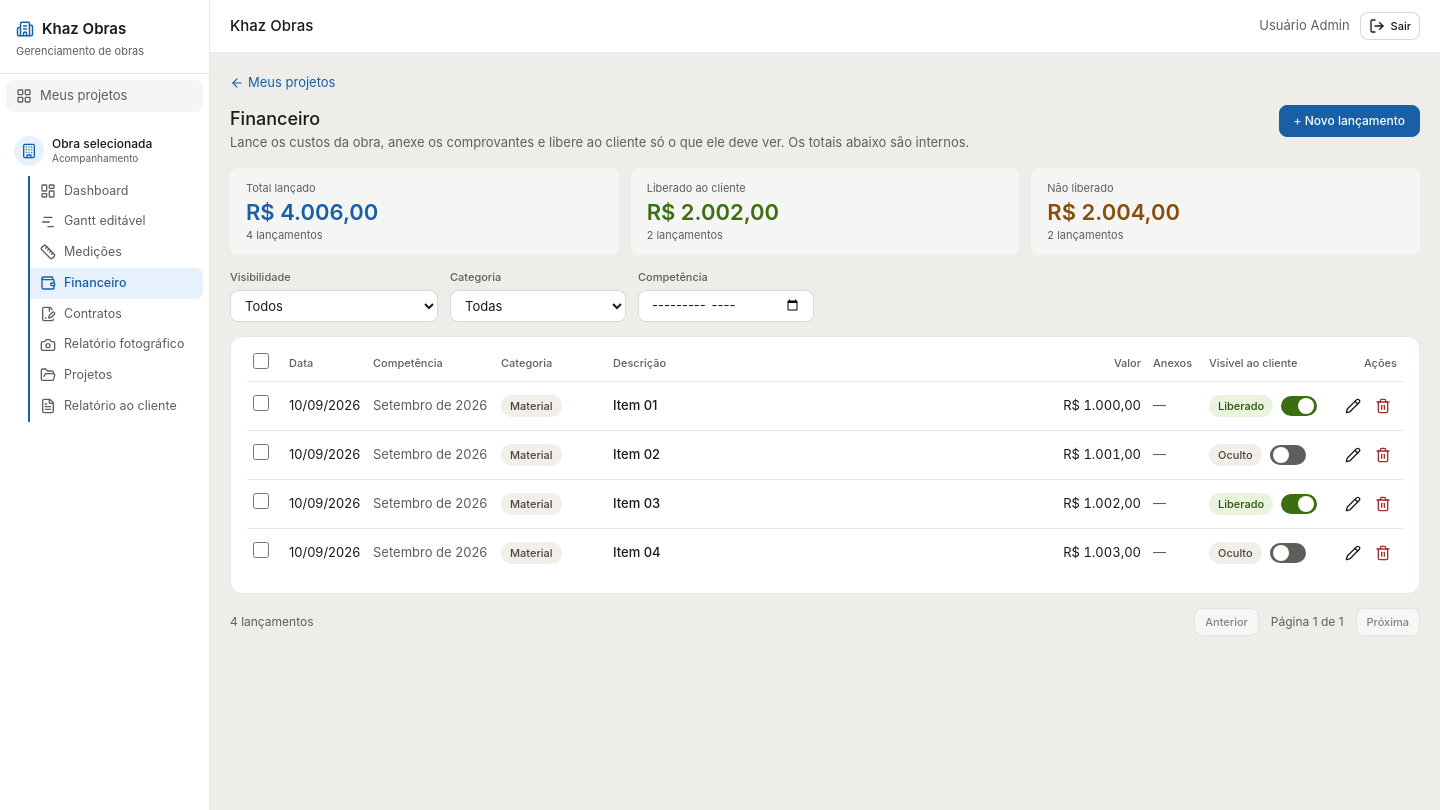
Test: Financeiro (admin) - seleção › checkbox do cabeçalho: indeterminado com seleção parcial, marca e desmarca todos da página
The width and height of the screenshot is (1440, 810).
Expected: the table is shown, [247,352,1403,577]
Expected: the checkbox named "Selecionar todos os lançamentos desta página" is not checked, [253,352,269,368]
Click the checkbox named "Selecionar lançamento: Item 01" at point(261, 403), box [253,395,269,411]
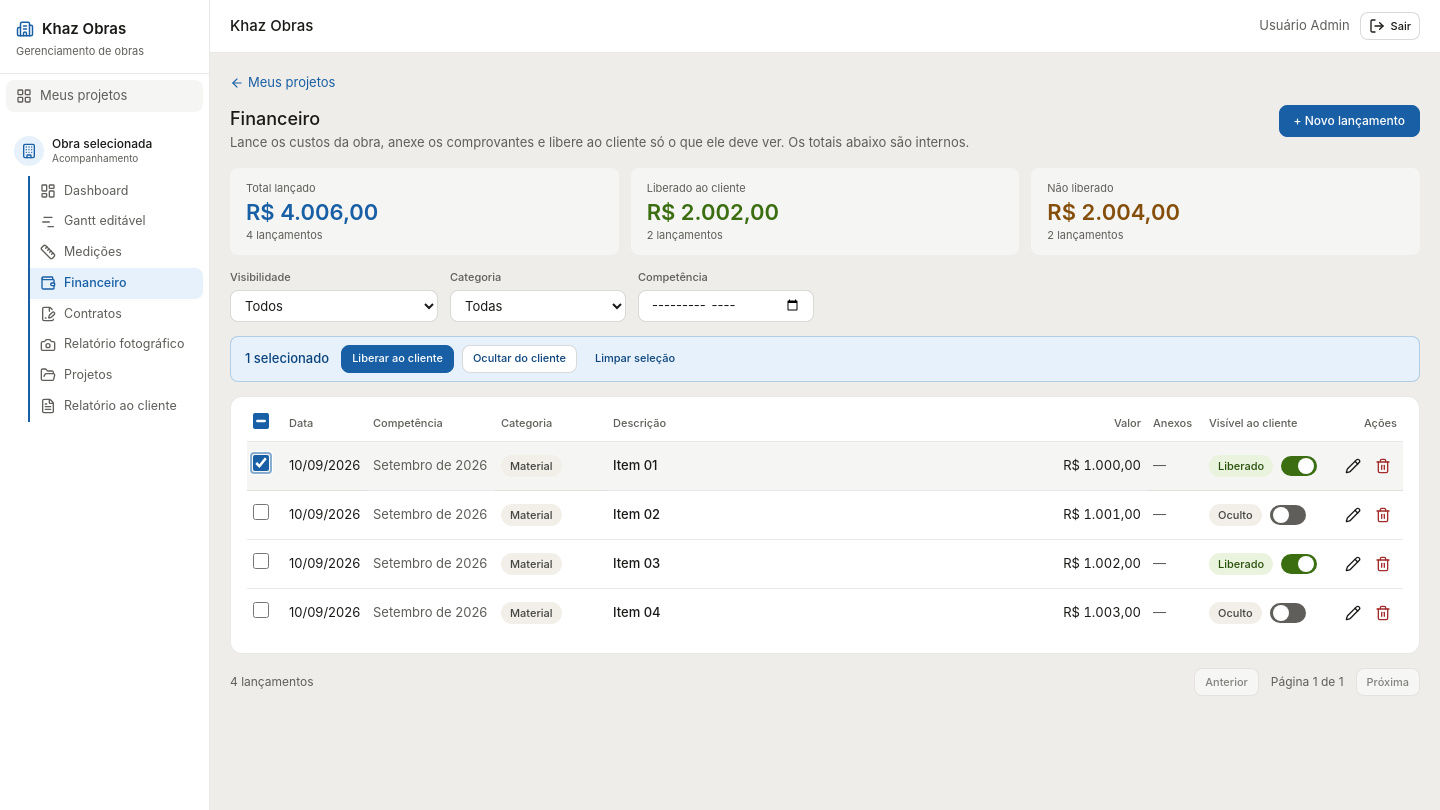
Click the checkbox named "Selecionar todos os lançamentos desta página" at point(261, 420), box [253,412,269,428]
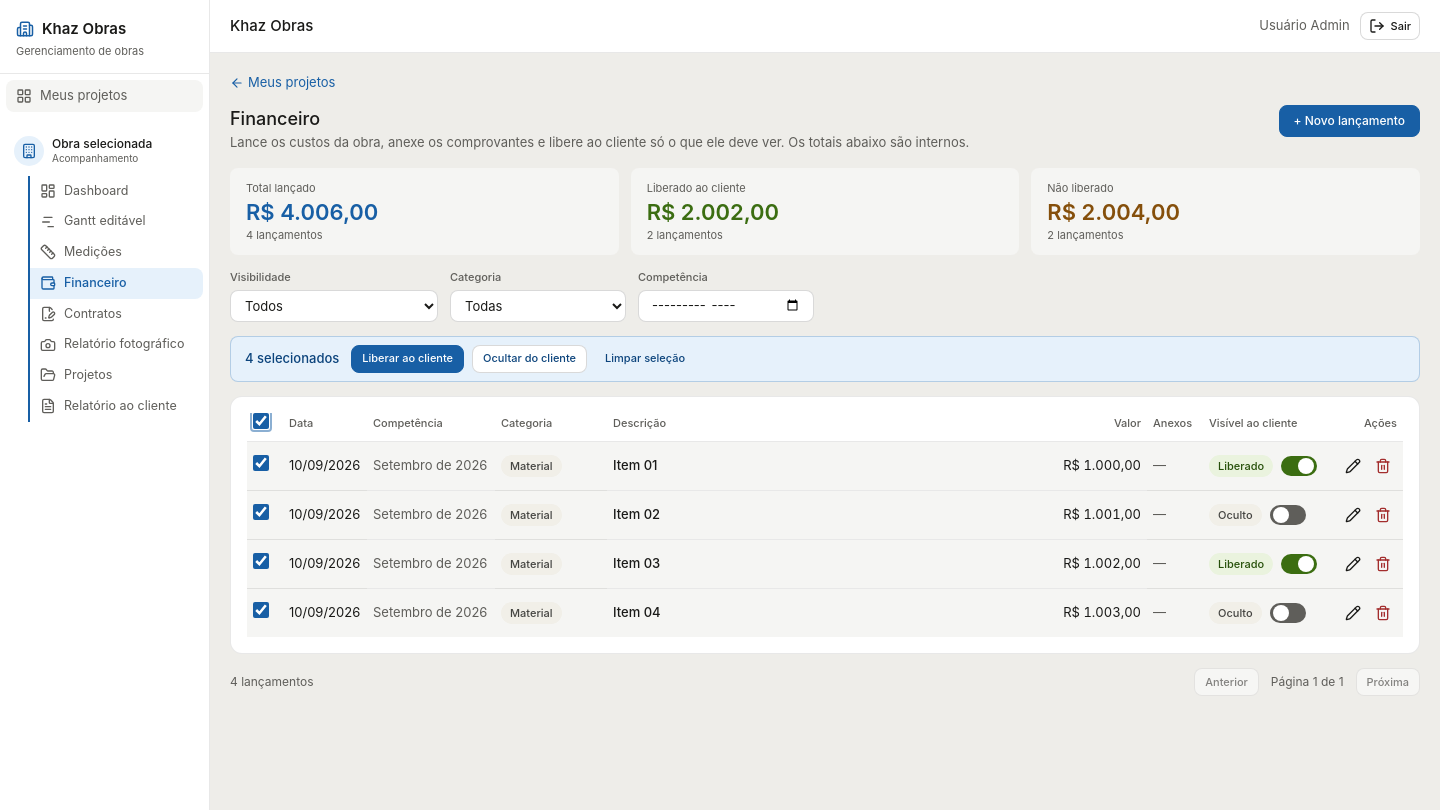
Expected: the checkbox named "Selecionar todos os lançamentos desta página" is checked
Expected: the checkbox named "Selecionar lançamento: Item 01" is checked, [253,455,269,471]
Expected: the checkbox named "Selecionar lançamento: Item 02" is checked, [253,504,269,520]
Click the checkbox named "Selecionar todos os lançamentos desta página" at point(261, 420), box [253,412,269,428]
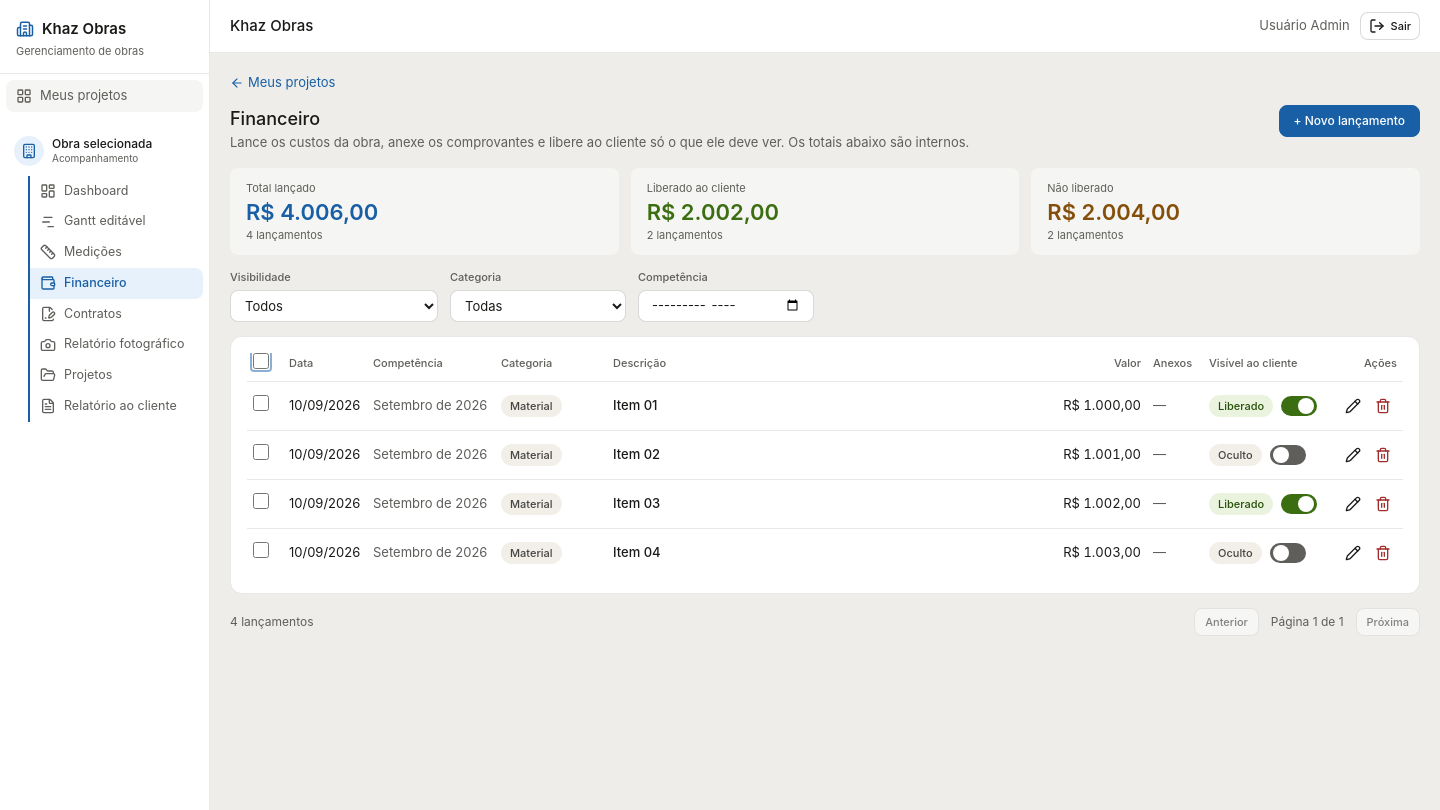
Expected: the checkbox named "Selecionar lançamento: Item 01" is not checked, [253,395,269,411]
Expected: the checkbox named "Selecionar lançamento: Item 02" is not checked, [253,444,269,460]
